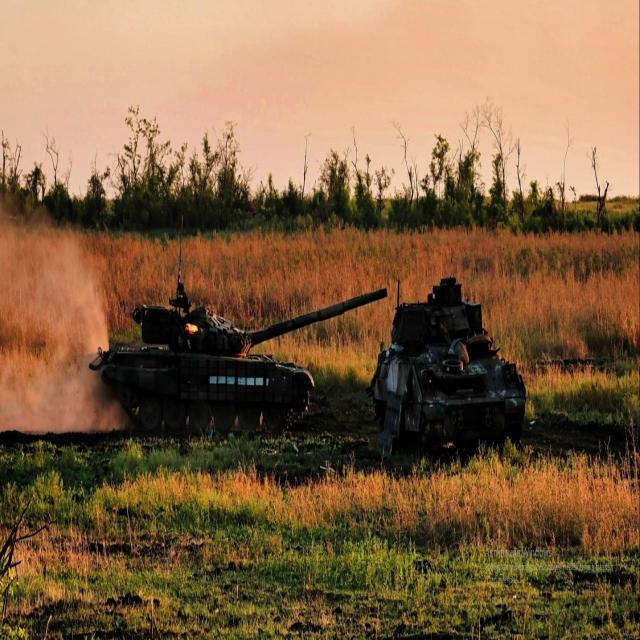AIFV: (372, 273, 529, 460)
MBT: (90, 281, 390, 445)
